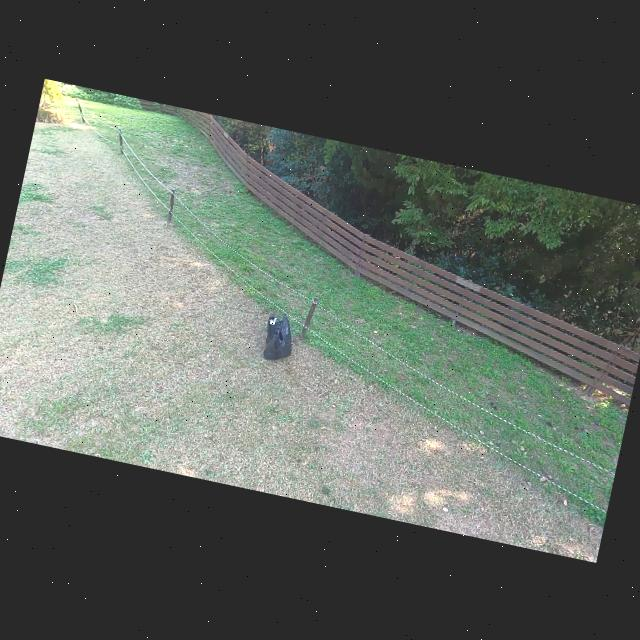trash: (256, 306, 300, 357), (262, 322, 297, 364)
